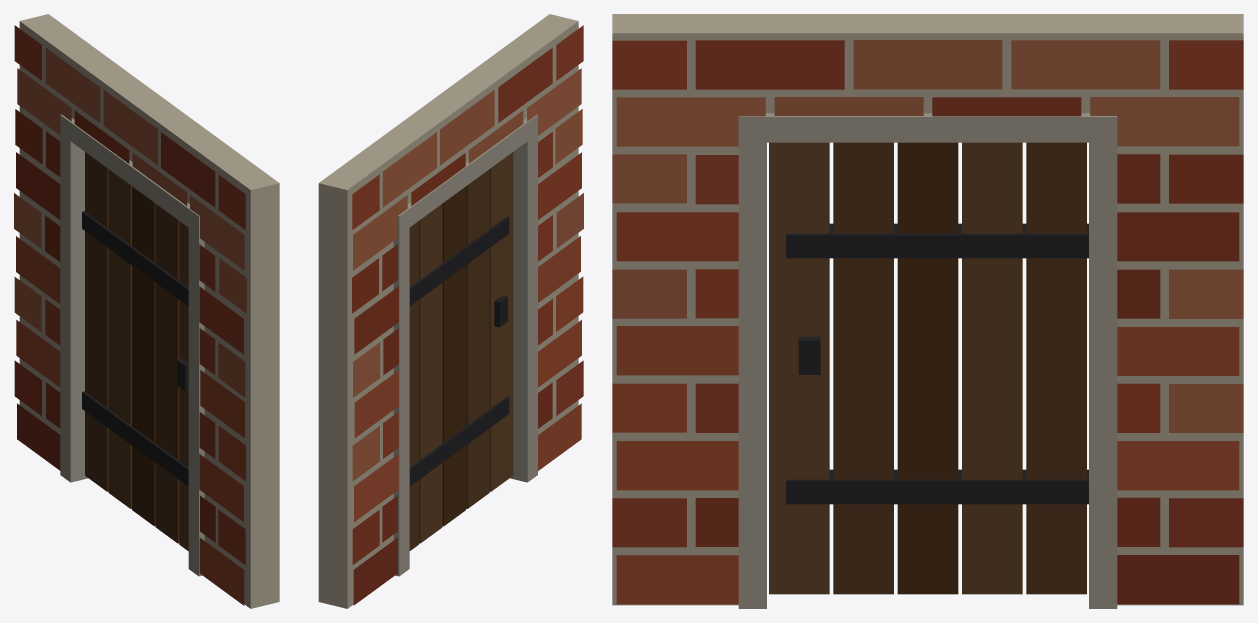
The model's file is wall-brick-door.glb.
3 views of the same model, side by side, from view 1: azimuth 30°, elevation 25°; view 2: azimuth 150°, elevation 25°; view 3: azimuth 270°, elevation 25° (orthographic). The views are drawn at different scales.
Visible parts, largest first — view 1: wall-brick-door; view 2: wall-brick-door; view 3: wall-brick-door.
Part boxes in pixels (x1,y1,x2,y2): wall-brick-door: (14, 14, 279, 608); wall-brick-door: (318, 14, 583, 608); wall-brick-door: (612, 14, 1243, 608).
Bounding box in the file's own units: 0.1 × 1 × 1.
